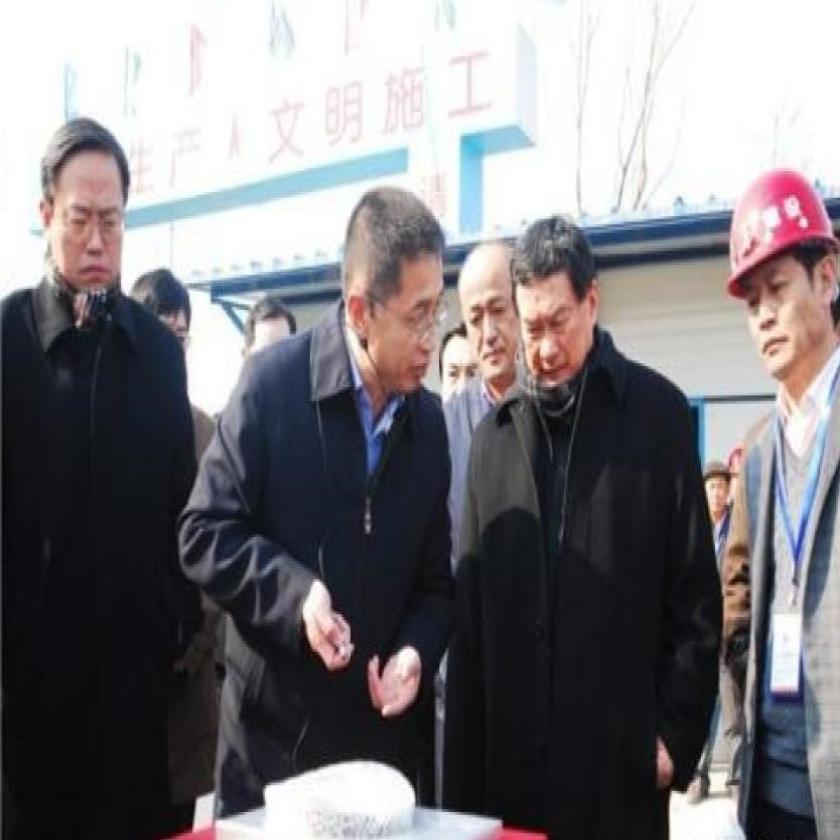Sin_casco: (337, 186, 444, 408), (38, 119, 128, 302), (509, 214, 594, 402), (457, 236, 528, 398), (704, 455, 739, 520)
